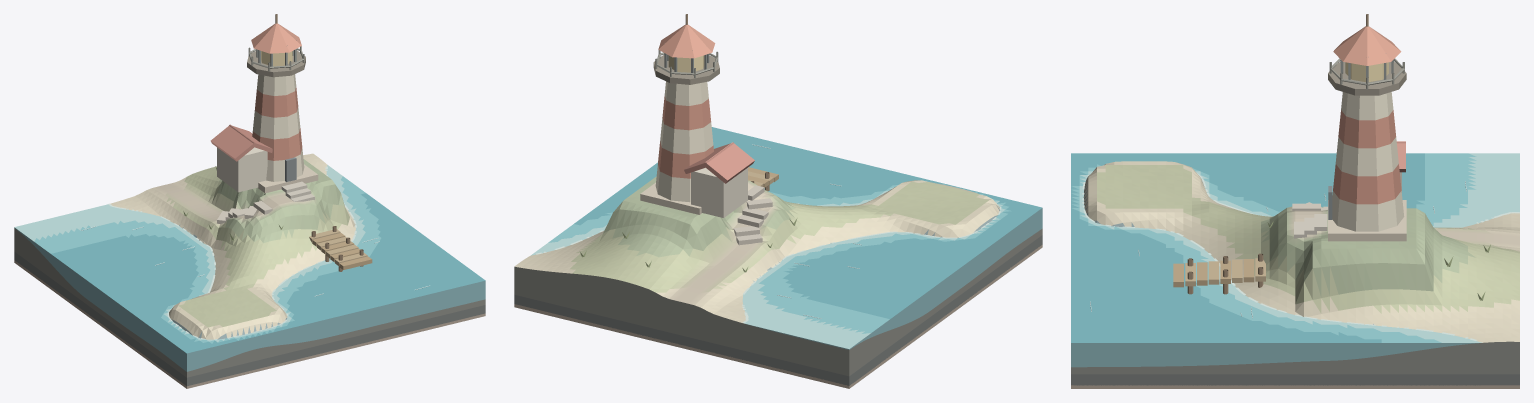
File: D02_proc.glb
The picture shows the model from 3 angles, left to right: view 1: azimuth 30°, elevation 25°; view 2: azimuth 150°, elevation 25°; view 3: azimuth 270°, elevation 25°; orthographic projection. The views are drawn at different scales.
Visible parts, largest first — view 1: proc_water, proc_ground, proc_structure, proc_skirt, proc_water_side, proc_steps, proc_foam; view 2: proc_water, proc_ground, proc_skirt, proc_structure, proc_water_side, proc_steps, proc_foam; view 3: proc_water, proc_ground, proc_structure, proc_skirt, proc_water_side, proc_foam, proc_glow.
Part boxes in pixels (x1=…): proc_water: x1=14, y1=165, x2=485, y2=353; proc_ground: x1=110, y1=153, x2=355, y2=339; proc_structure: x1=210, y1=14, x2=372, y2=271; proc_skirt: x1=14, y1=228, x2=485, y2=388; proc_water_side: x1=14, y1=227, x2=485, y2=371; proc_steps: x1=217, y1=201, x2=272, y2=223; proc_foam: x1=108, y1=166, x2=356, y2=339; proc_water: x1=531, y1=127, x2=1041, y2=348; proc_ground: x1=515, y1=176, x2=999, y2=323; proc_skirt: x1=514, y1=228, x2=1042, y2=388; proc_structure: x1=640, y1=14, x2=778, y2=217; proc_water_side: x1=746, y1=208, x2=1042, y2=349; proc_steps: x1=733, y1=185, x2=772, y2=245; proc_foam: x1=536, y1=204, x2=1001, y2=323; proc_water: x1=1071, y1=153, x2=1519, y2=342; proc_ground: x1=1083, y1=161, x2=1519, y2=342; proc_structure: x1=1173, y1=14, x2=1406, y2=294; proc_skirt: x1=1071, y1=341, x2=1519, y2=388; proc_water_side: x1=1071, y1=343, x2=1478, y2=367; proc_foam: x1=1082, y1=173, x2=1519, y2=340; proc_glow: x1=1345, y1=62, x2=1388, y2=81.
Bounding box in the file's own units: 8 × 6.18 × 8.
